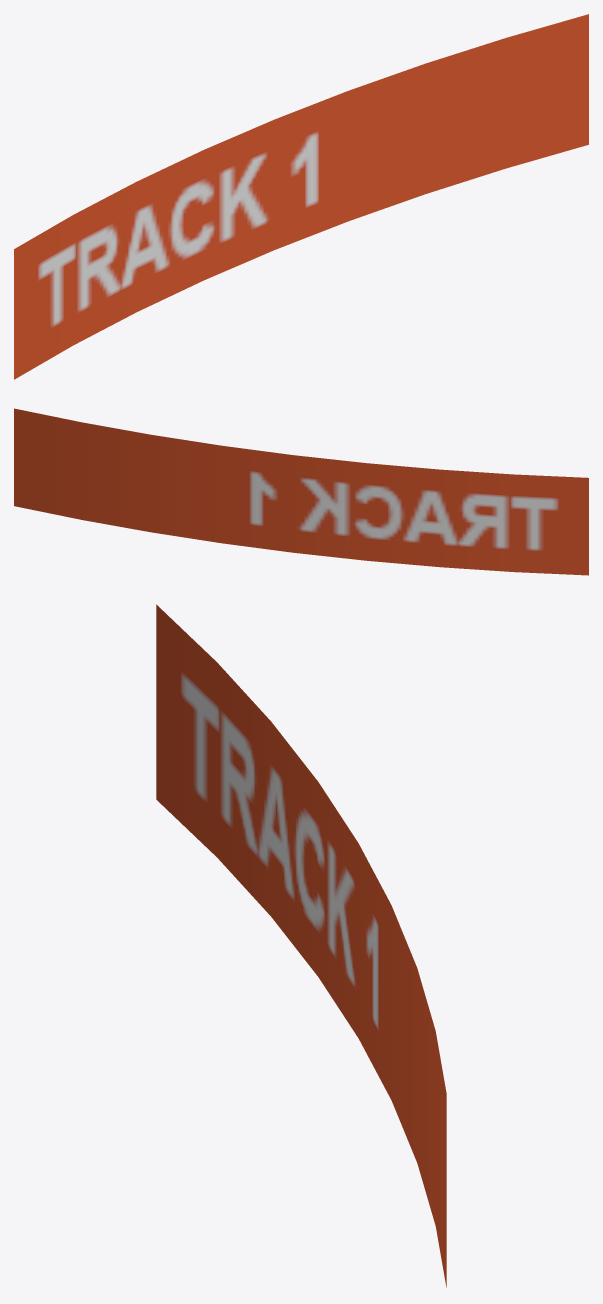
The model's file is track1.glb.
3 renders of one model, top to bottom at view 1: azimuth 30°, elevation 25°; view 2: azimuth 150°, elevation 25°; view 3: azimuth 270°, elevation 25°, orthographic. The views are drawn at different scales.
Visible parts, largest first — view 1: menu_2_tr1.001; view 2: menu_2_tr1.001; view 3: menu_2_tr1.001.
Part boxes in pixels (box(x1,y1,x2,y2)): menu_2_tr1.001: box(14, 14, 588, 379); menu_2_tr1.001: box(14, 408, 588, 575); menu_2_tr1.001: box(156, 604, 446, 1287).
Bounding box in the file's own units: 2.74 × 0.509 × 0.6864.
Materials: 1 (1 with a texture image).
